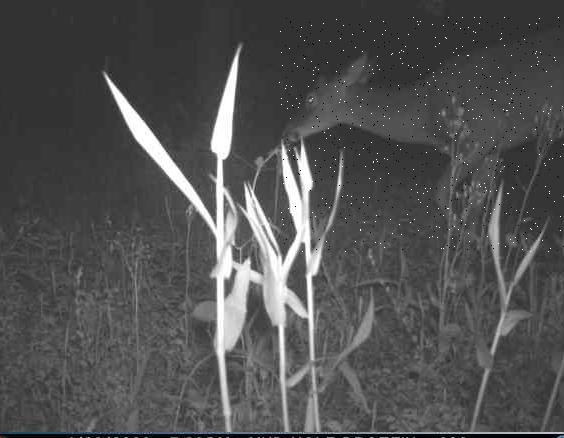Deer: (279, 17, 564, 252)
